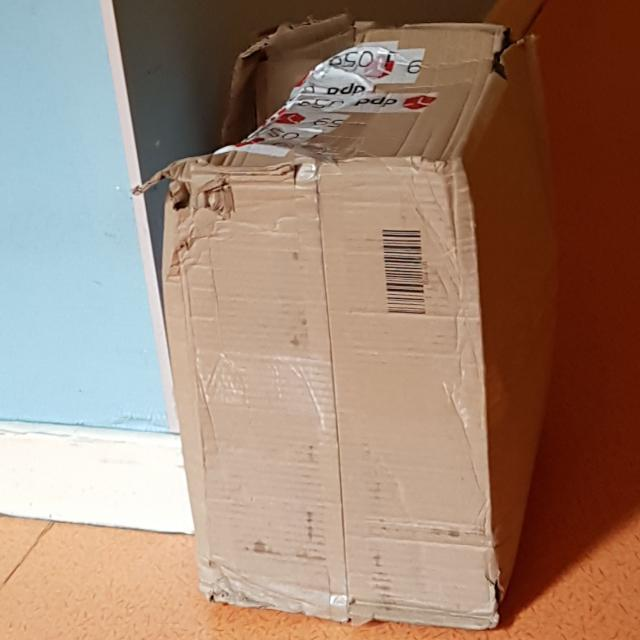damaged: (490, 27, 530, 89), (170, 175, 199, 224)
